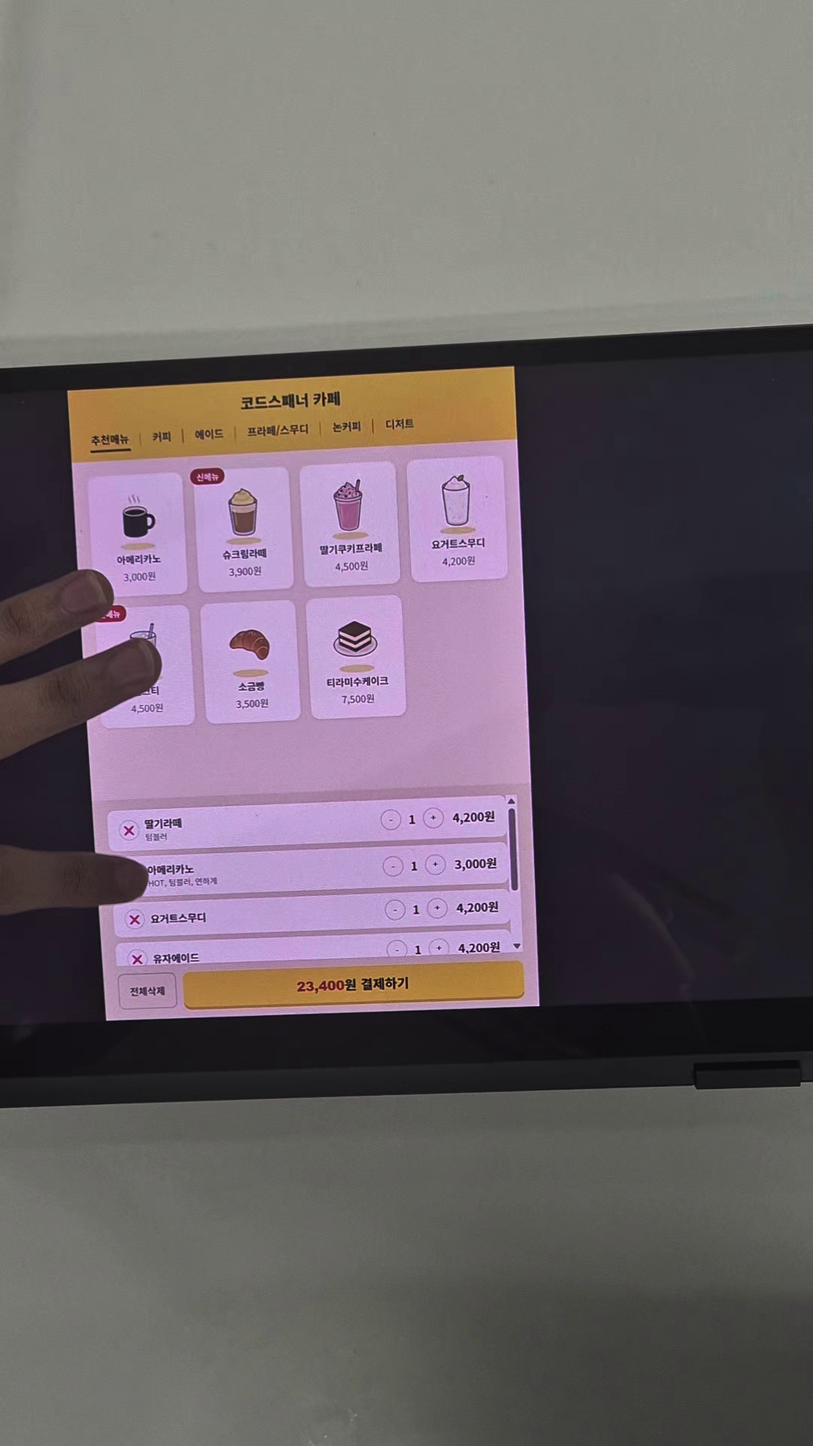action_button: (183, 960, 525, 1009), (118, 972, 177, 1009)
cart_item: (111, 842, 509, 899), (108, 795, 507, 851), (113, 889, 511, 938), (116, 929, 511, 966)
category_tab: (247, 423, 309, 438), (91, 433, 130, 446), (385, 417, 415, 431), (195, 427, 224, 441), (332, 420, 362, 433), (152, 430, 171, 443)
menu_back: (407, 455, 508, 583), (88, 472, 189, 599), (300, 461, 401, 587), (306, 595, 407, 720), (194, 467, 294, 593), (95, 605, 195, 729), (201, 600, 301, 723)
menu_name: (319, 542, 383, 556), (326, 675, 389, 688), (431, 537, 486, 550), (116, 553, 162, 566), (222, 548, 267, 560), (238, 681, 266, 692)
menu_price: (334, 560, 369, 573), (123, 570, 156, 583), (228, 566, 262, 578), (442, 555, 475, 567), (236, 698, 269, 710), (341, 694, 375, 705), (131, 703, 164, 714)
